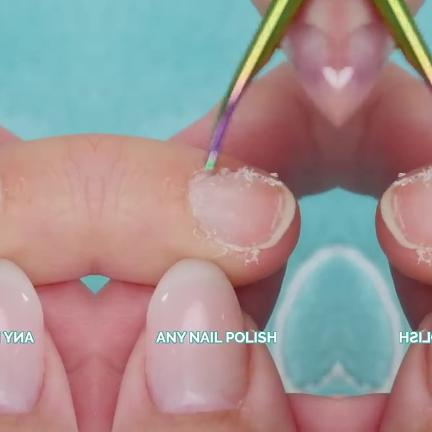Nail: (145, 258, 247, 413), (186, 170, 295, 252), (0, 258, 43, 413), (379, 172, 432, 252), (427, 318, 432, 406), (0, 183, 2, 209)
